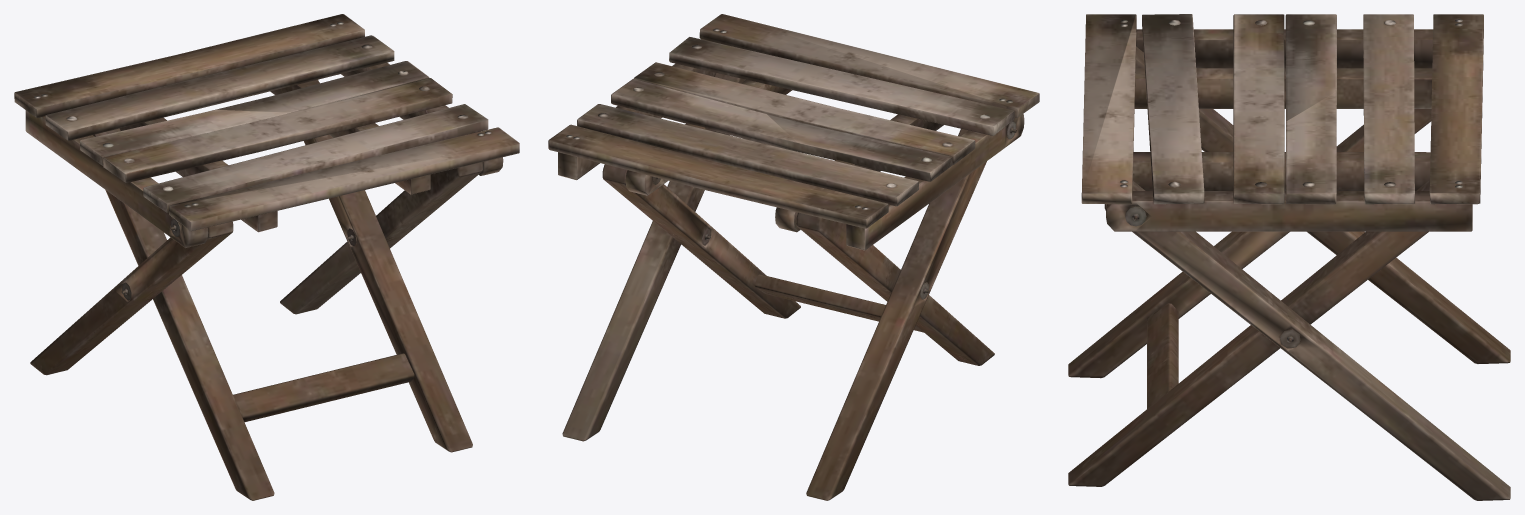
The model's file is folding_wooden_stool.glb.
The picture shows the model from 3 angles, left to right: view 1: azimuth 30°, elevation 25°; view 2: azimuth 150°, elevation 25°; view 3: azimuth 270°, elevation 25°; orthographic projection. The views are drawn at different scales.
Visible parts, largest first — view 1: folding_wooden_stool; view 2: folding_wooden_stool; view 3: folding_wooden_stool.
Boxes of the visible parts, <box> form: folding_wooden_stool: <box>14,14,519,500</box>; folding_wooden_stool: <box>548,14,1039,500</box>; folding_wooden_stool: <box>1068,14,1510,500</box>.
Size of the model in its own units: 0.527 by 0.442 by 0.5471.
1 material, 1 textured.
